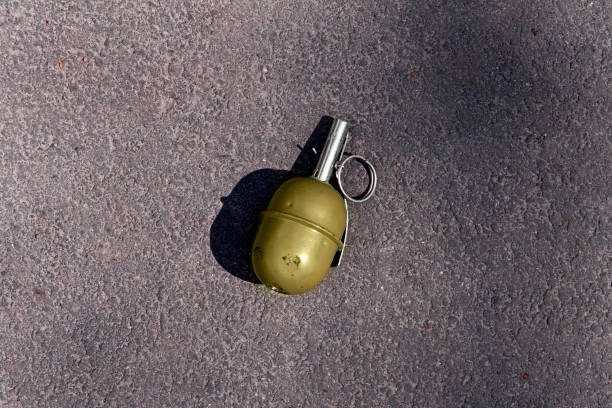e1: (252, 113, 376, 291)
